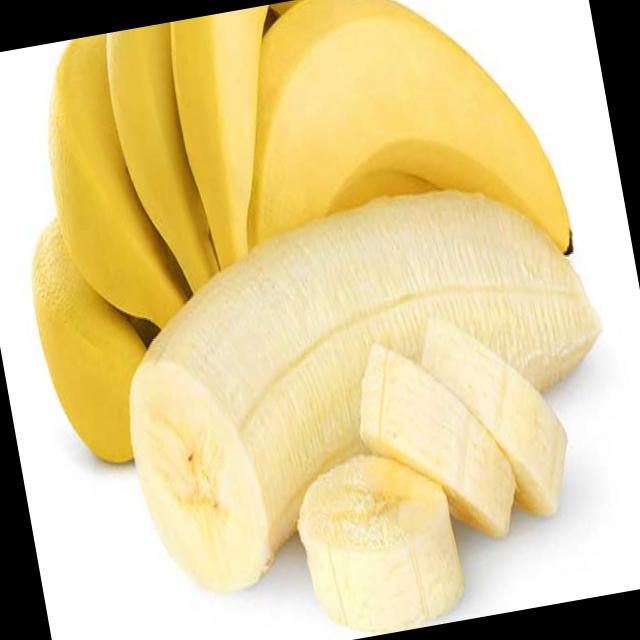banana: (98, 173, 640, 599), (192, 0, 602, 368), (6, 165, 190, 480)
